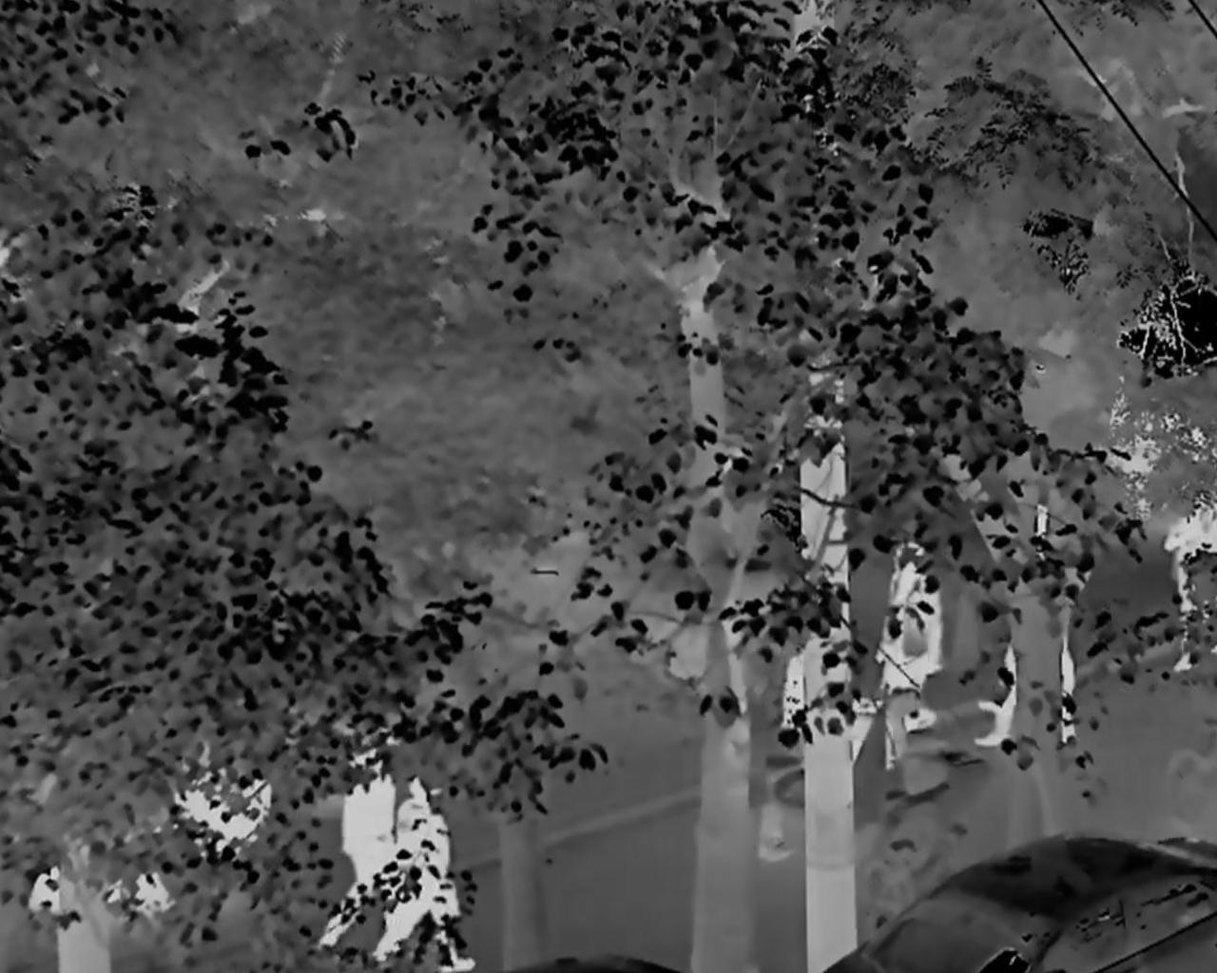person: (382, 766, 485, 969), (878, 533, 943, 743), (332, 732, 392, 948)
